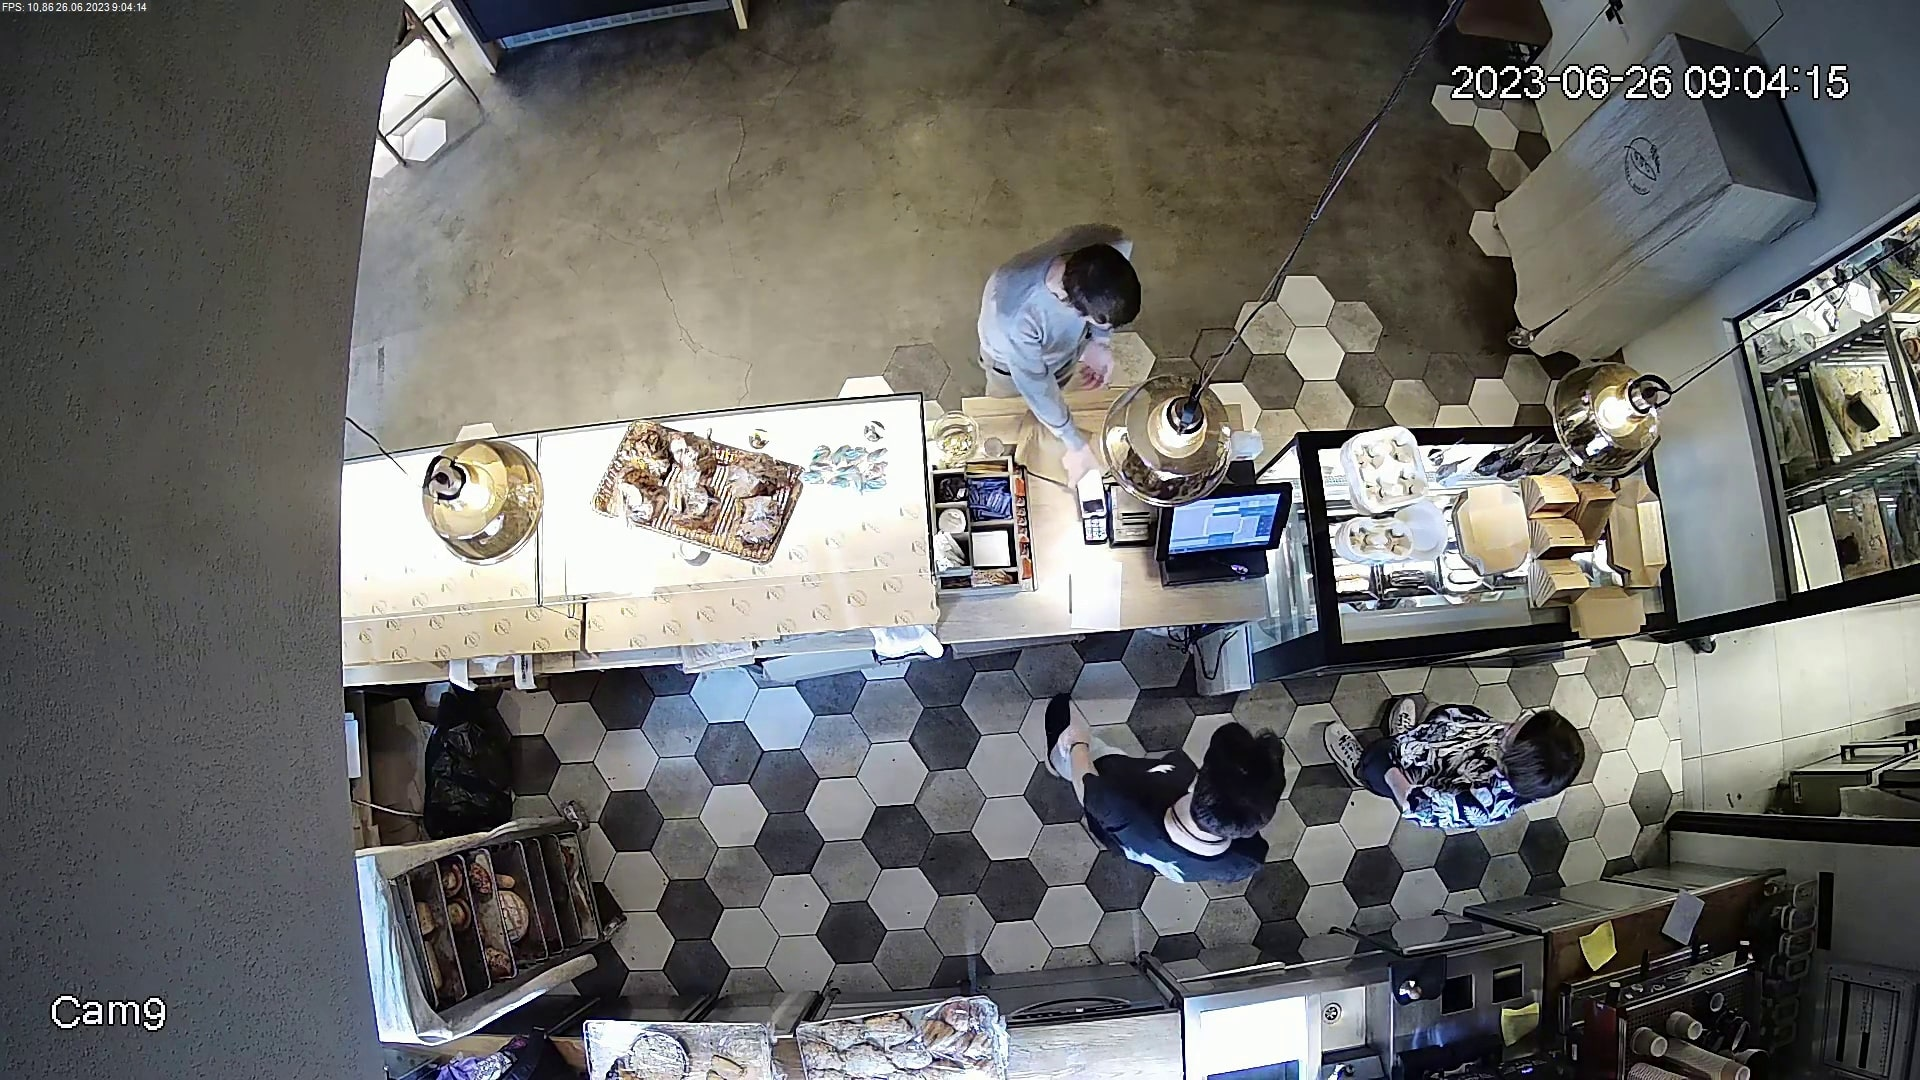barcounter: (352, 436, 1662, 656)
person: (1314, 675, 1606, 837), (1030, 686, 1280, 867), (935, 224, 1158, 421)
terminal: (1074, 447, 1112, 547)
